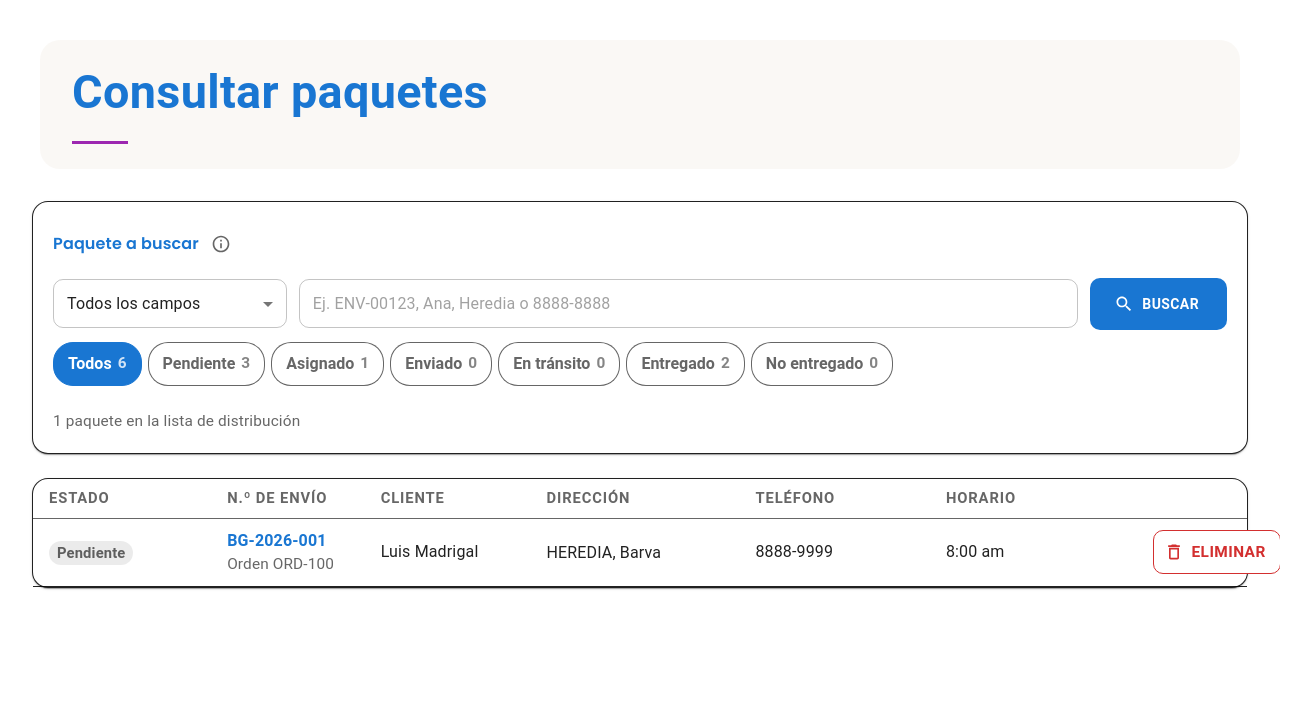
Test case: PackageSearchPage › updates the table when the user presses Buscar
The image size is (1292, 720).
Type "Limon" into the field named "Buscar paquetes".
click(689, 304); type("Limon")  # box x1=299 y1=280 x2=1078 y2=328
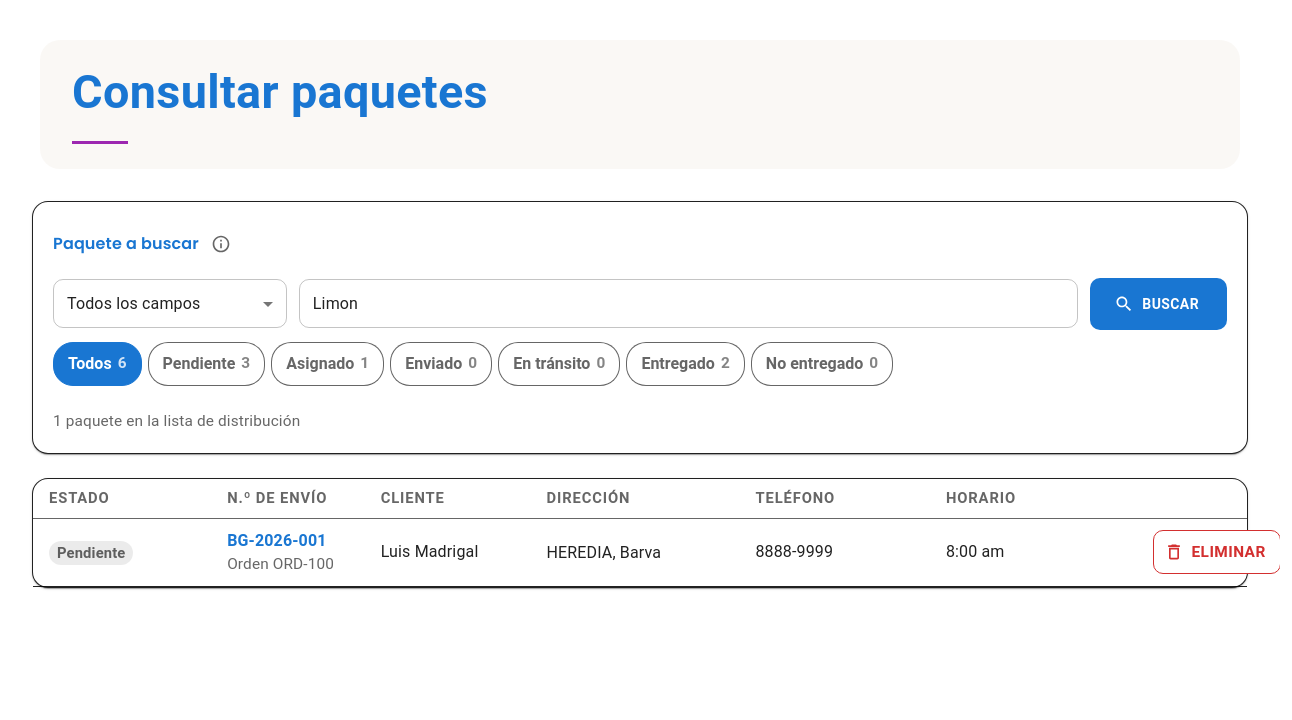
Click the button "Buscar".
click(1159, 304)  # box x1=1090 y1=278 x2=1227 y2=330
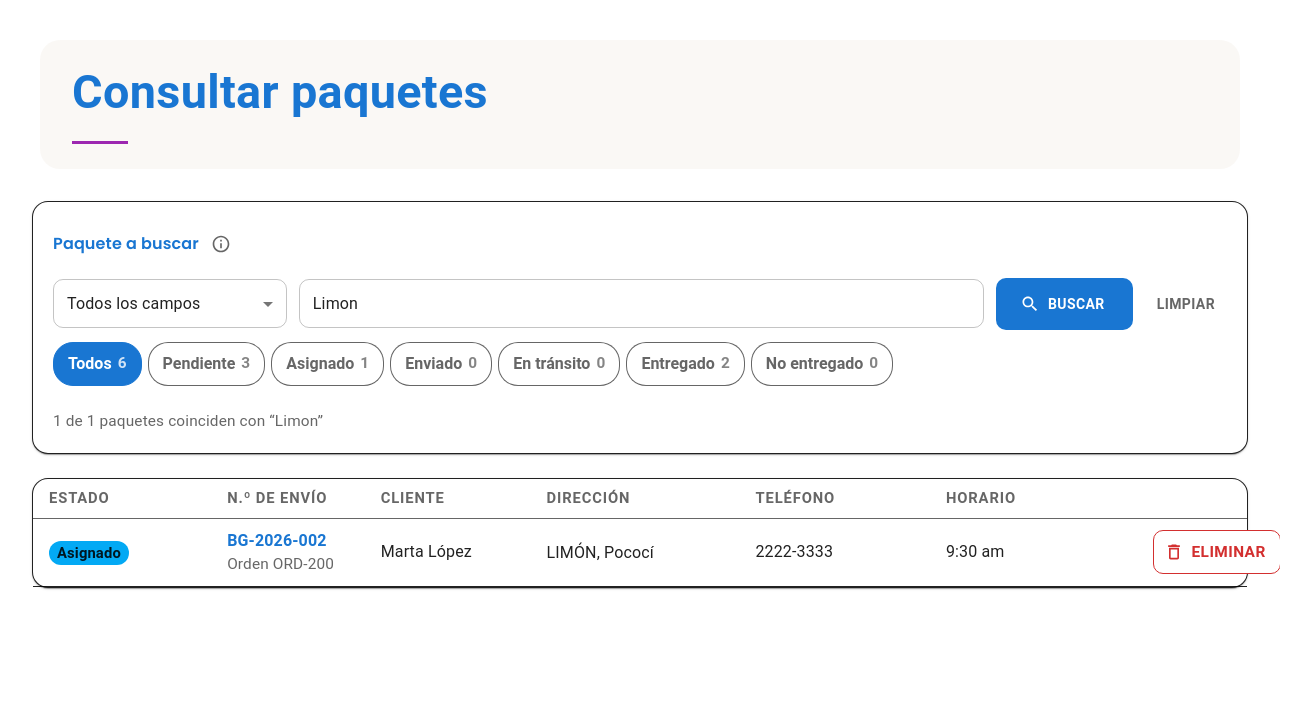
Expected: the link "BG-2026-002" is shown, x1=227 y1=531 x2=327 y2=550
Expected: the link "BG-2026-001" is gone
Expected: the message reads "1 de 1 paquetes coinciden con “Limon”", x1=53 y1=412 x2=323 y2=430
